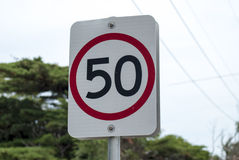Speed_limit_50km: (68, 33, 156, 119)
